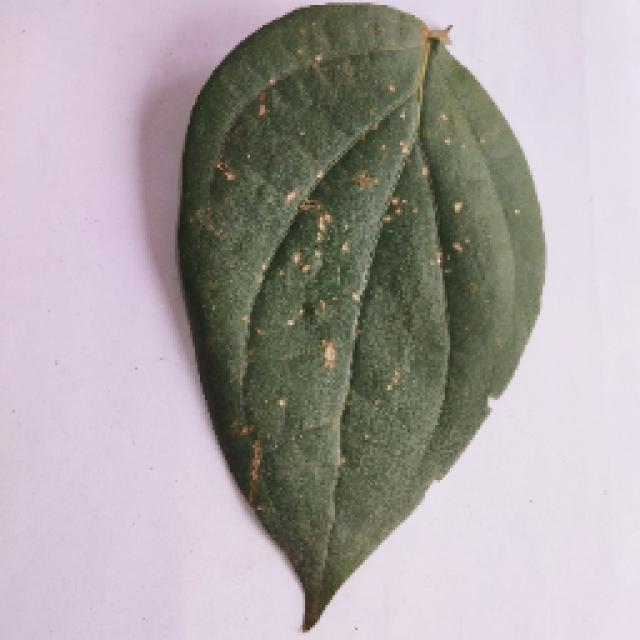pollu-disease: (173, 5, 545, 625)
